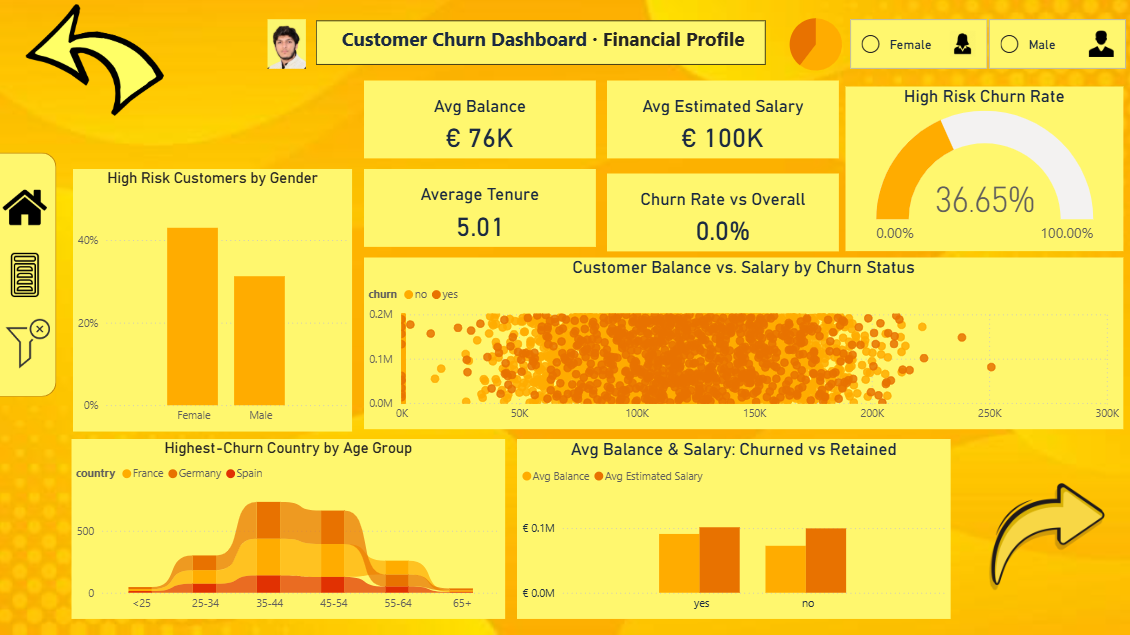

This screenshot's page, from the dashboard's own definition file:
{"tool":"powerbi","page":{"name":"Page 3","canvas":[1280,720],"ordinal":2},"visuals":[{"type":"advancedSlicerVisual","fields":{"Values":["customer_churn_processed.gender"]},"box":[958,18,322,66],"z":0},{"type":"gauge","fields":{"Y":["customer_churn_processed.High Risk Churn Rate"]},"box":[958,100,314,186],"z":1000},{"type":"clusteredColumnChart","title":"Avg Balance & Salary: Churned vs Retained","fields":{"Category":["customer_churn_processed.churn"],"Y":["customer_churn_processed.Avg Balance","customer_churn_processed.Avg Estimated Salary"]},"box":[586.4,498.3,489.8,203.4],"z":2000},{"type":"scatterChart","title":"Customer Balance vs. Salary by Churn Status","fields":{"X":["customer_churn_processed.balance"],"Y":["customer_churn_processed.estimated_salary"],"Series":["customer_churn_processed.churn"]},"box":[414,294,858,194],"z":3000},{"type":"image","box":[1090,516,190,186],"z":4000},{"type":"clusteredColumnChart","title":"High Risk Customers by Gender","fields":{"Category":["customer_churn_processed.gender"],"Y":["customer_churn_processed.High Risk Churn Rate"]},"box":[84.7,193.2,315.3,296.6],"z":5000},{"type":"textbox","box":[360,26,508,50],"z":6000},{"type":"cardVisual","fields":{"Data":["customer_churn_processed.Avg Tenure"]},"box":[414,194,262,88],"z":7000},{"type":"cardVisual","fields":{"Data":["customer_churn_processed.Churn Rate vs Overall"]},"box":[688,198,262,88],"z":8000},{"type":"cardVisual","fields":{"Data":["customer_churn_processed.Avg Balance"]},"box":[414,94,262,88],"z":9000},{"type":"image","box":[4,2,212,136],"z":10000},{"type":"image","box":[294,18,66,66],"z":10500},{"type":"ribbonChart","title":"Highest-Churn Country by Age Group","fields":{"Series":["customer_churn_processed.country"],"Category":["customer_churn_processed.age_group"],"Y":["customer_churn_processed.Churned Customers"]},"box":[83.1,498.3,489.8,203.4],"z":11000},{"type":"cardVisual","fields":{"Data":["customer_churn_processed.Avg Estimated Salary"]},"box":[688,94,262,88],"z":11500},{"type":"pieChart","fields":{"Y":["customer_churn_processed.Churn Rate"],"Category":["customer_churn_processed.gender"]},"box":[868,10,112,84],"z":12000},{"type":"shape","box":[0,174,66,276],"z":14000},{"type":"image","box":[0,275,60,76],"z":15000},{"type":"image","box":[0,198,60,76],"z":16000},{"type":"image","box":[4,352,60,76],"z":17000}]}

Visuals, with their boxes in screenshot pixels (x1, y1, x2, y2), scaled from the page's 1280x720 canvas onto the 1130x635 screenshot:
advancedSlicerVisual - customer_churn_processed.gender: bbox(846, 16, 1129, 74)
gauge - customer_churn_processed.High Risk Churn Rate: bbox(846, 88, 1123, 252)
"Avg Balance & Salary: Churned vs Retained" clusteredColumnChart: bbox(518, 439, 950, 619)
"Customer Balance vs. Salary by Churn Status" scatterChart: bbox(365, 259, 1123, 430)
image: bbox(962, 455, 1129, 619)
"High Risk Customers by Gender" clusteredColumnChart: bbox(75, 170, 353, 432)
textbox: bbox(318, 23, 766, 67)
cardVisual - customer_churn_processed.Avg Tenure: bbox(365, 171, 597, 249)
cardVisual - customer_churn_processed.Churn Rate vs Overall: bbox(607, 175, 839, 252)
cardVisual - customer_churn_processed.Avg Balance: bbox(365, 83, 597, 161)
image: bbox(4, 2, 191, 122)
image: bbox(260, 16, 318, 74)
"Highest-Churn Country by Age Group" ribbonChart: bbox(73, 439, 506, 619)
cardVisual - customer_churn_processed.Avg Estimated Salary: bbox(607, 83, 839, 161)
pieChart - customer_churn_processed.Churn Rate x customer_churn_processed.gender: bbox(766, 9, 865, 83)
shape: bbox(0, 153, 58, 397)
image: bbox(0, 243, 53, 310)
image: bbox(0, 175, 53, 242)
image: bbox(4, 310, 56, 377)
